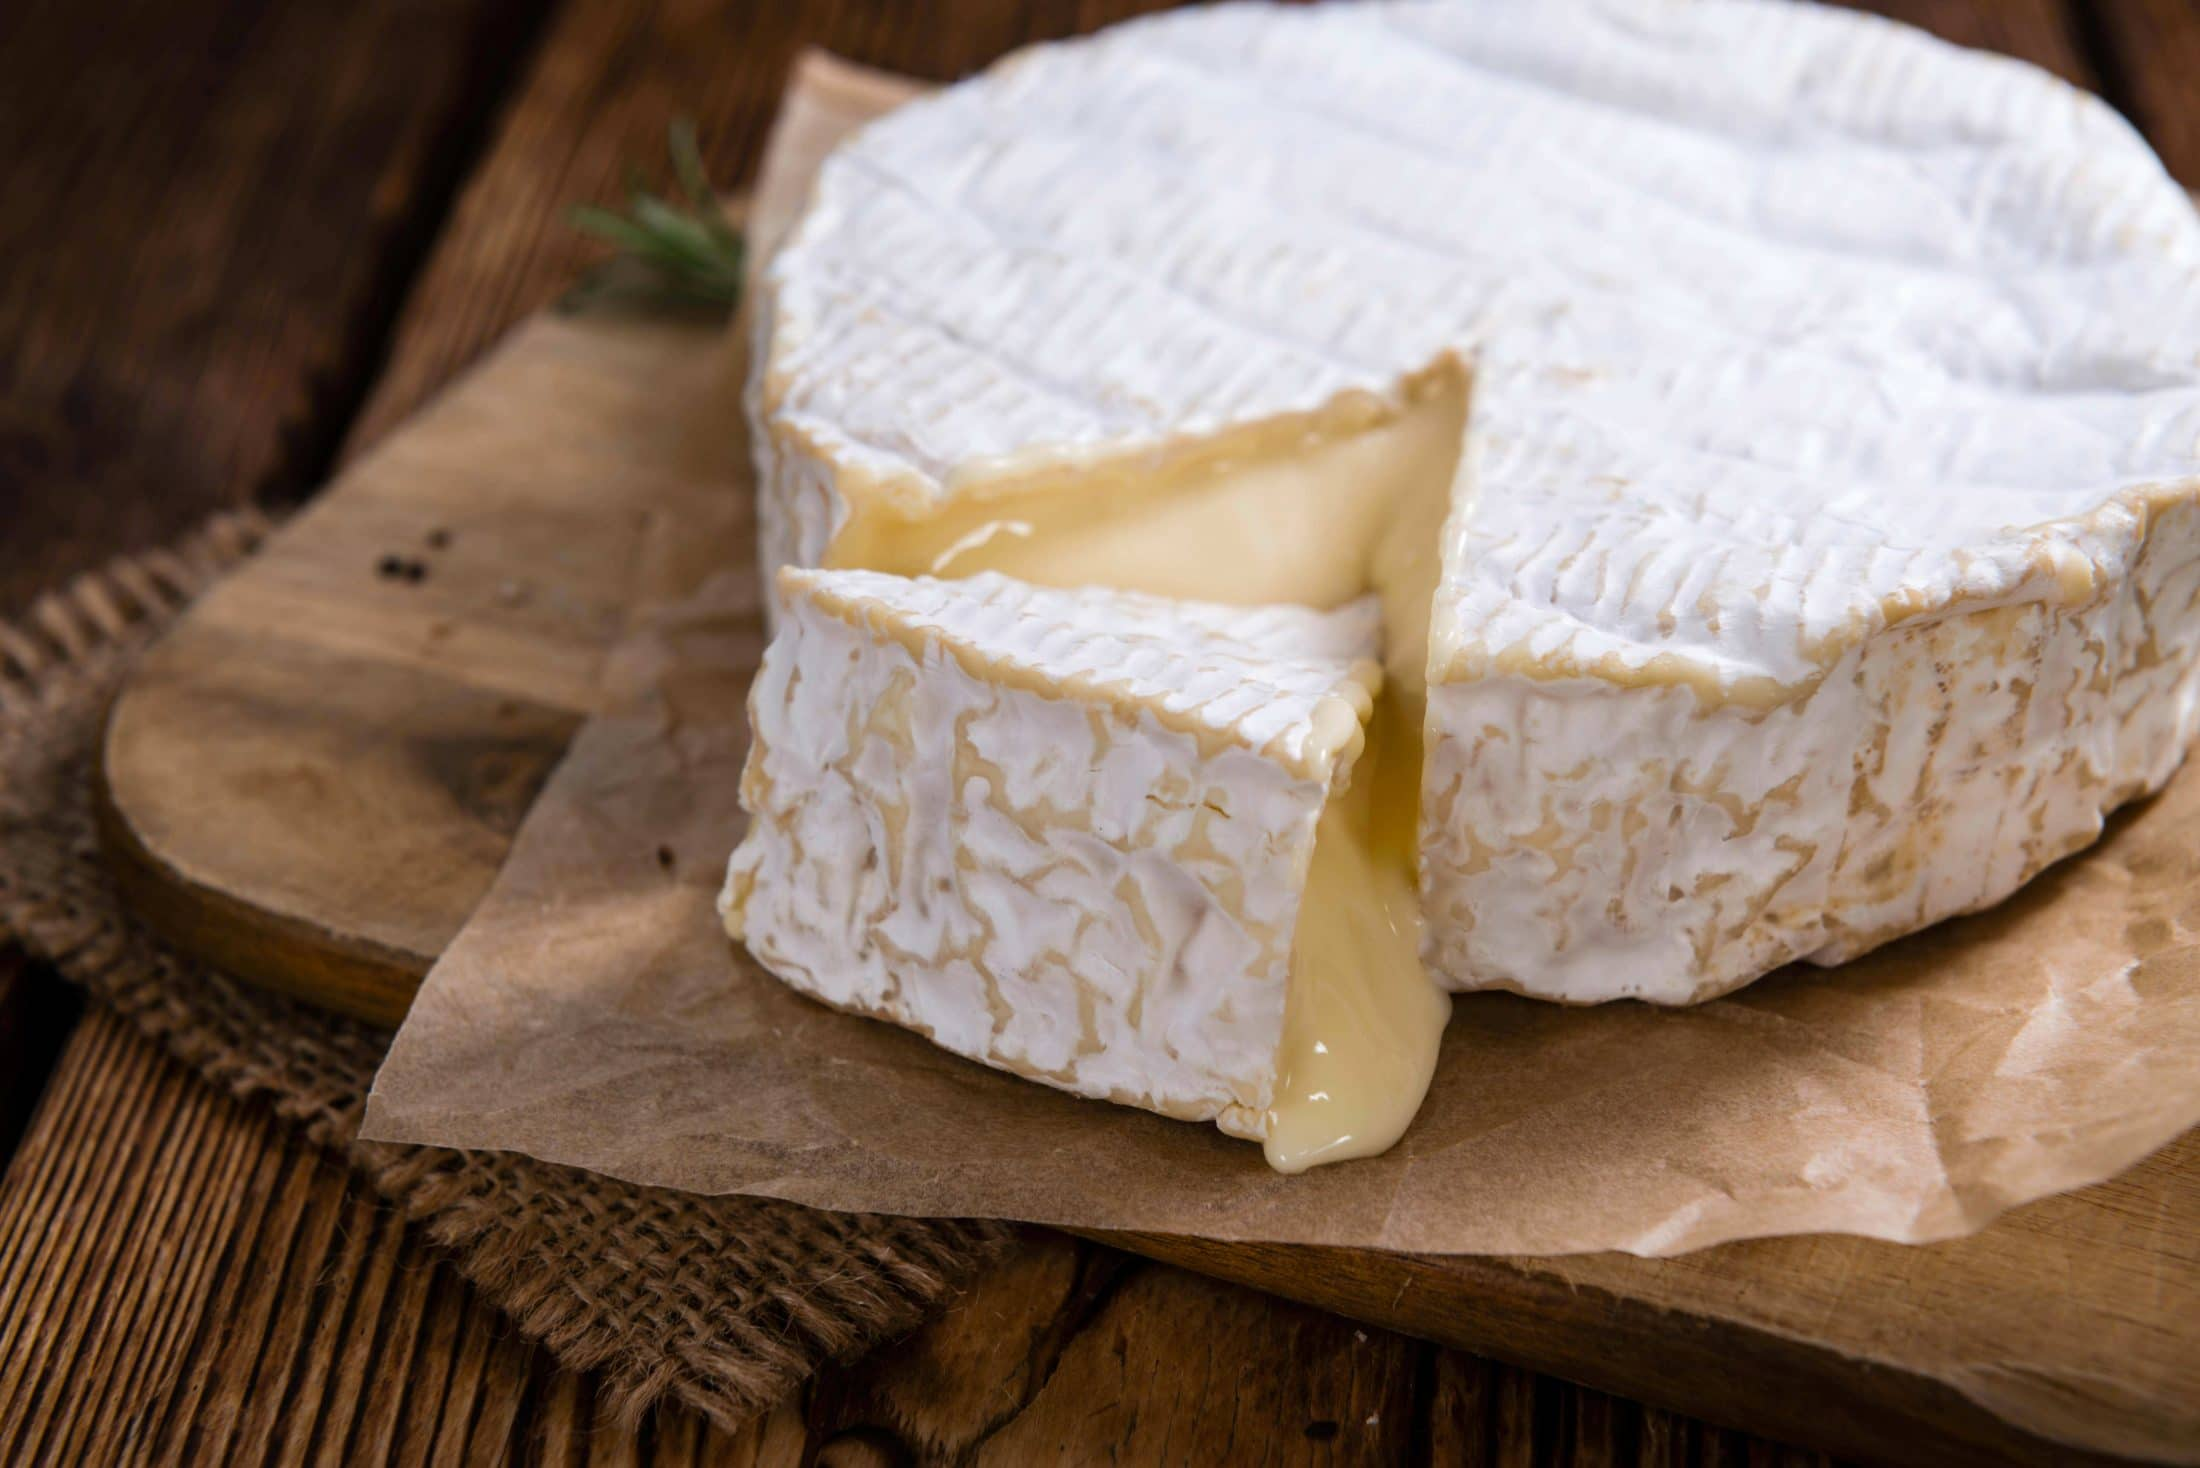camembert: (695, 2, 2200, 1185)
